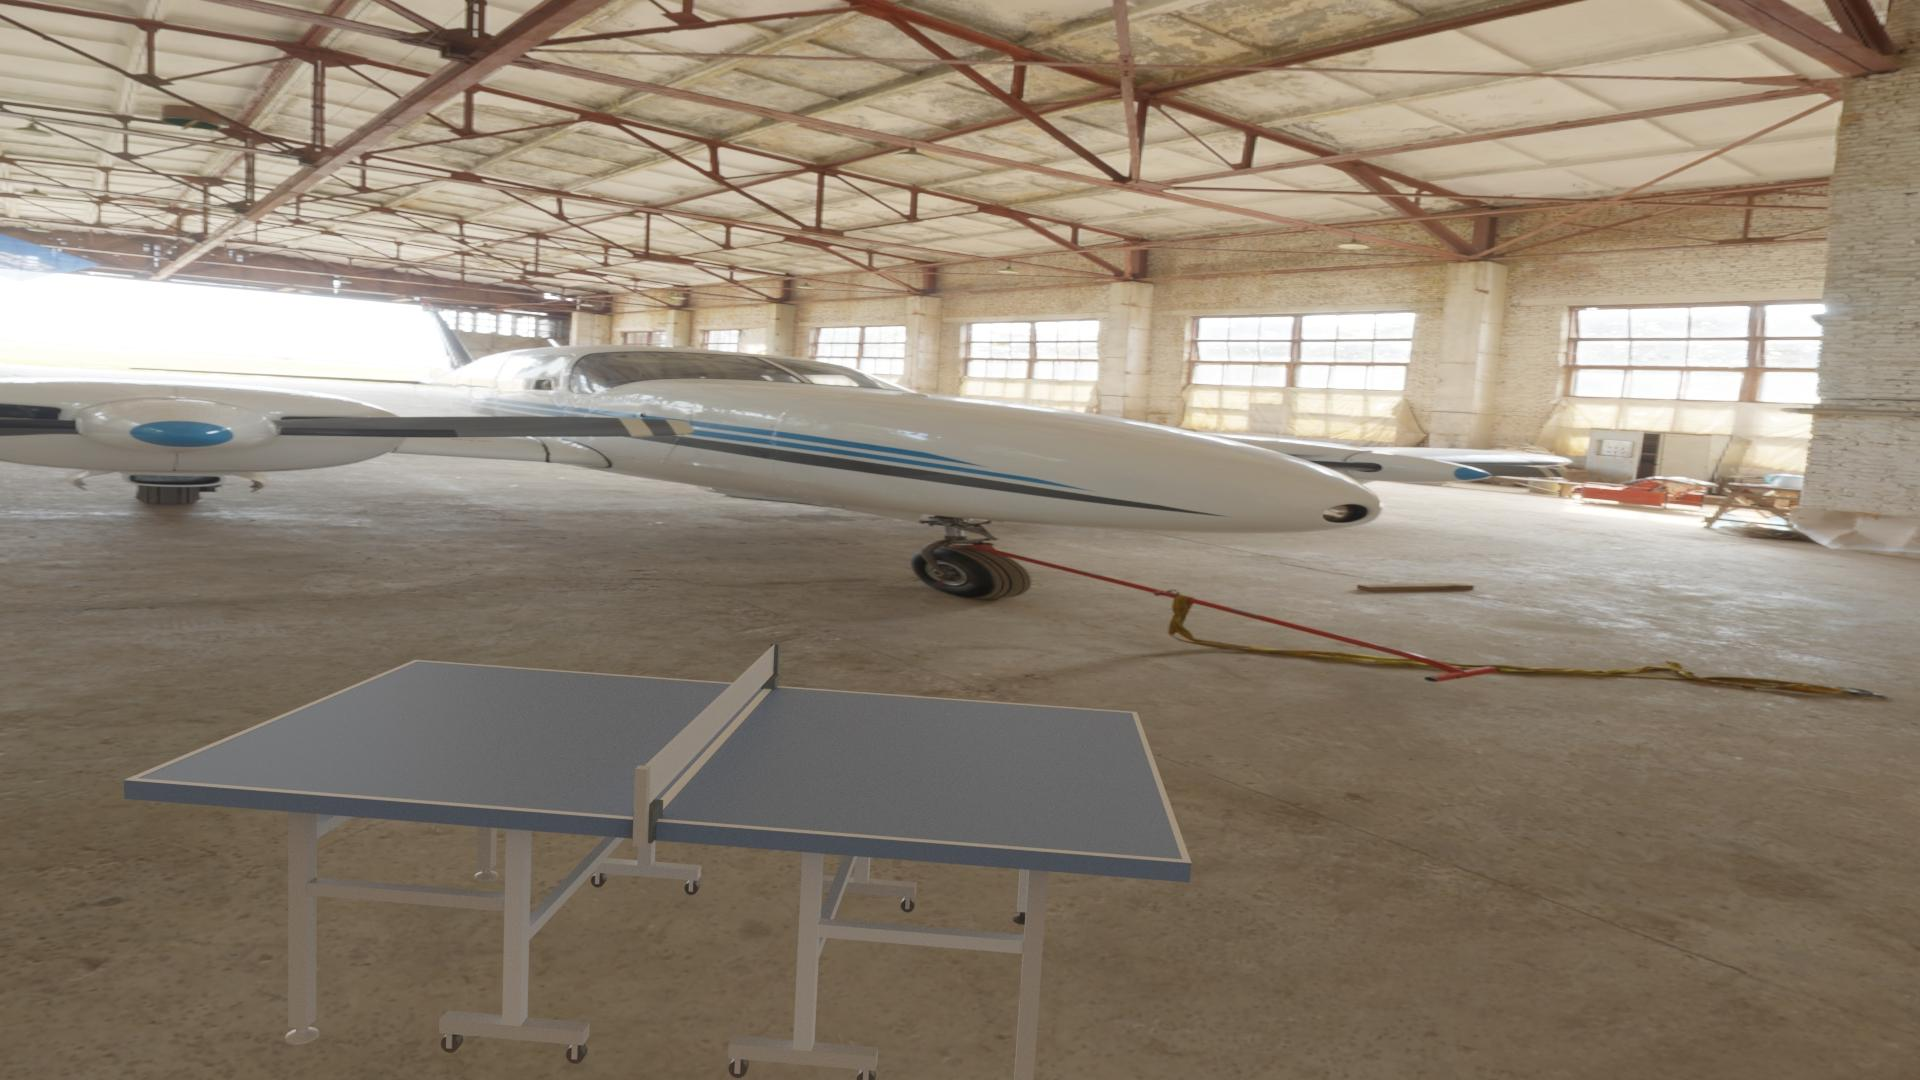table: (137, 661, 1183, 860)
